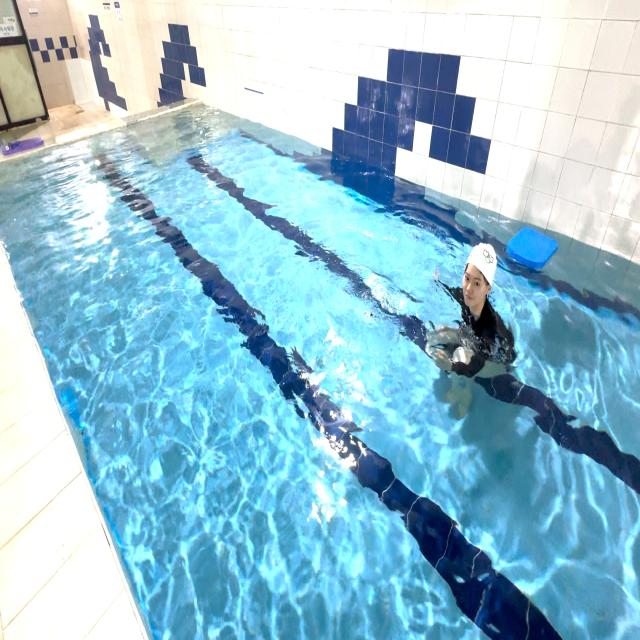Swimming: (412, 218, 530, 433)
